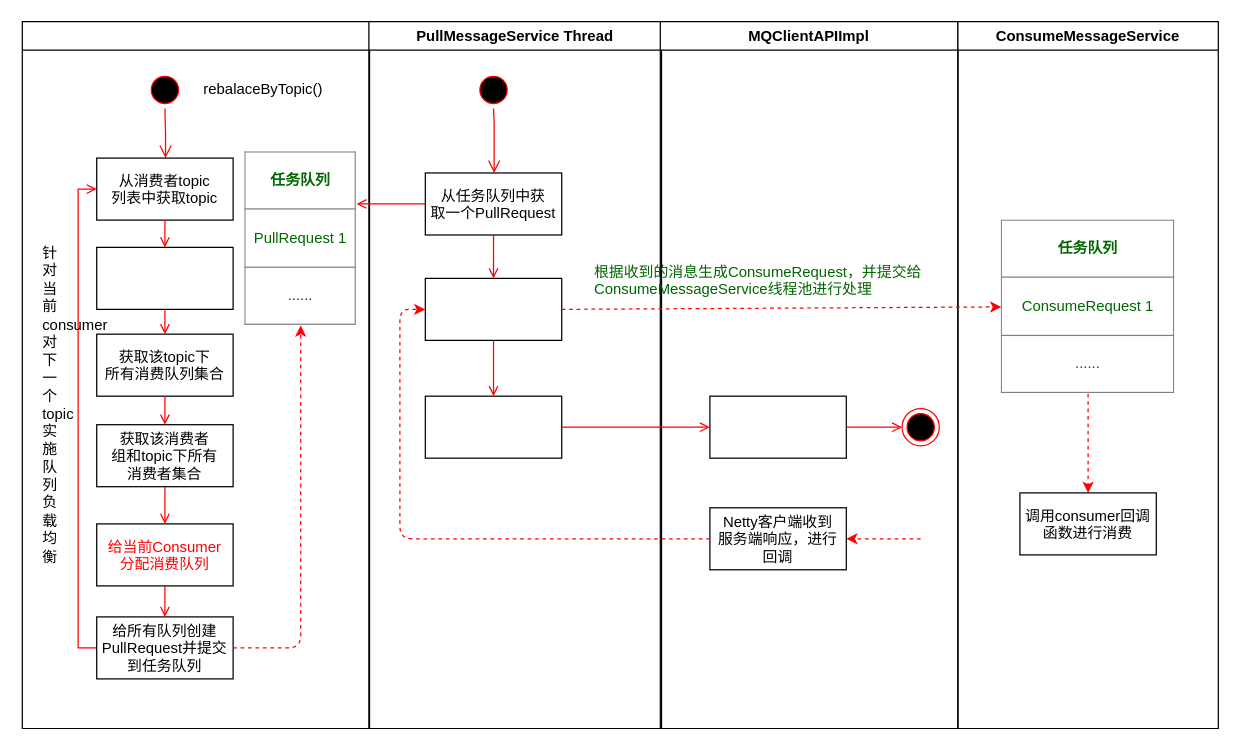
This 1240x750 diagram has some shape labels left out. Each missing label, with the box of its shape:
RebalanceService Thread: (21, 20, 370, 728)
创建PullCallback 回调处理函数: (424, 277, 562, 340)
判断consumer通信 模型（集群，广播）: (95, 246, 233, 309)
根据PullRequest向 queue所在broker 发起Pull请求: (424, 395, 562, 458)
调用Netty客户端 处理Pull请求: (709, 395, 846, 458)
